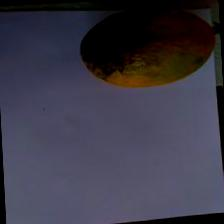Orange Rotten: (66, 0, 219, 95)
